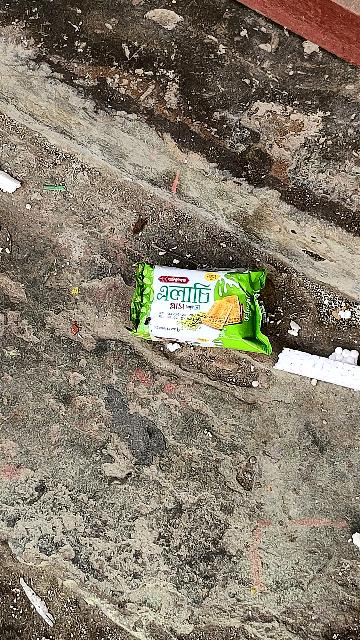packet: (133, 257, 272, 365)
